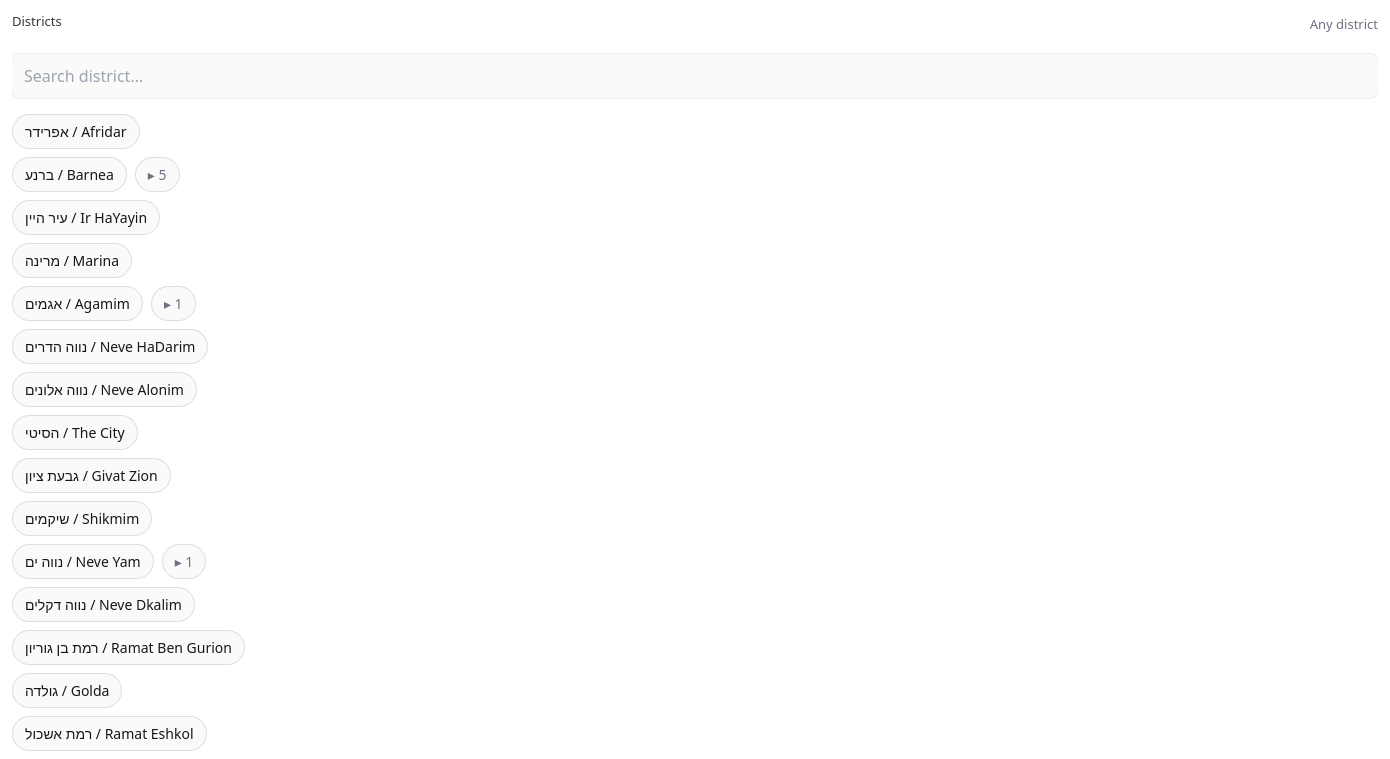
StepDistricts › search still reaches a sub-district directly
Step 1. Type "גני ברנע" into the field with placeholder "Search district…" → (695,76), box [12,54,1378,98]
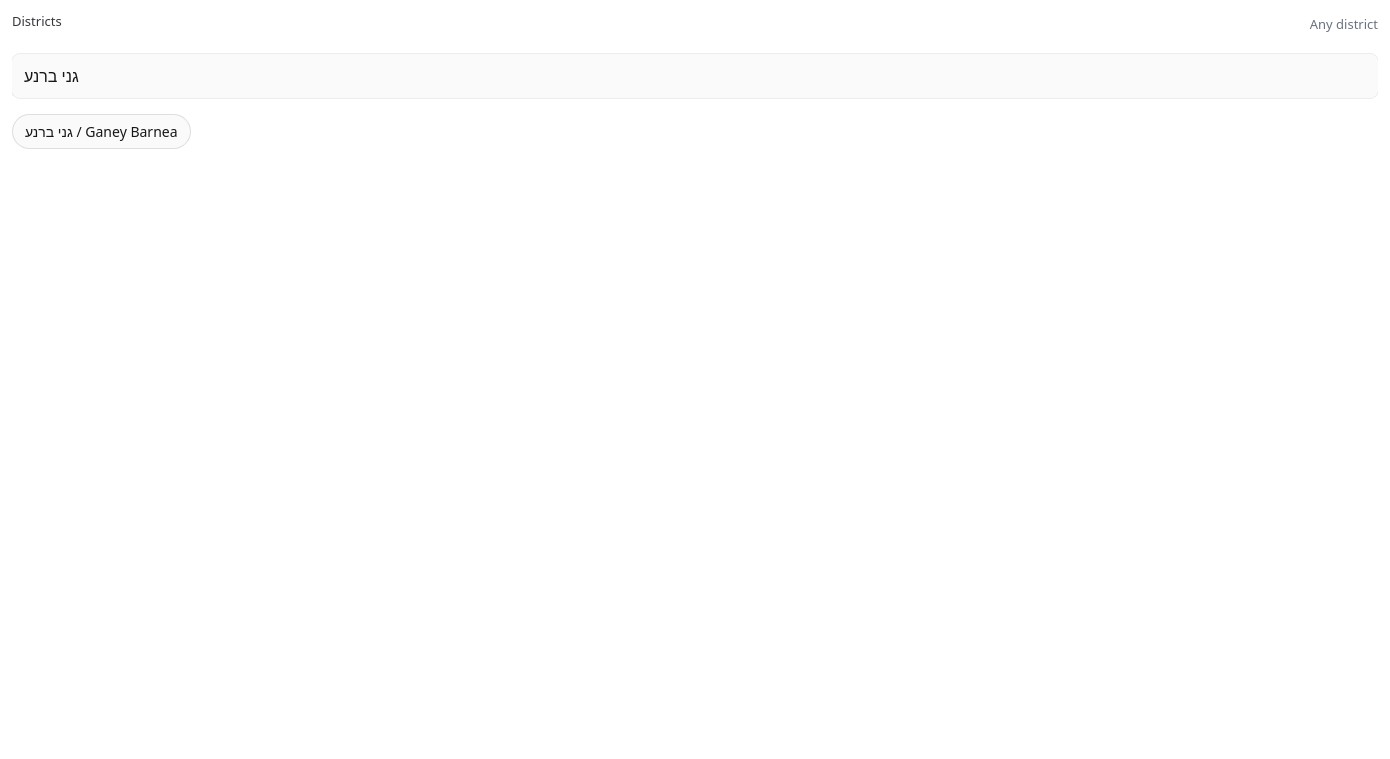
Now the button "גני ברנע / Ganey Barnea" is shown, box [12,114,191,148]
